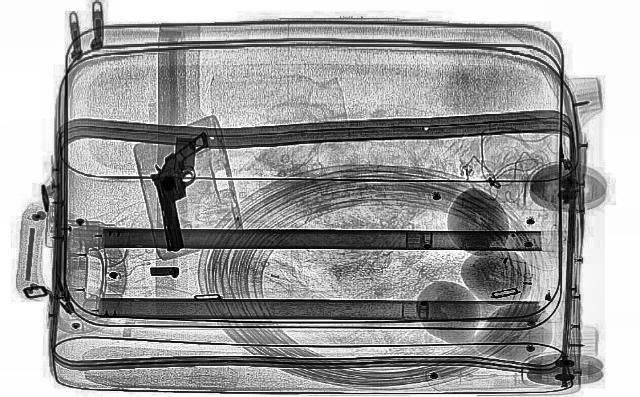Gun: (141, 132, 233, 253)
